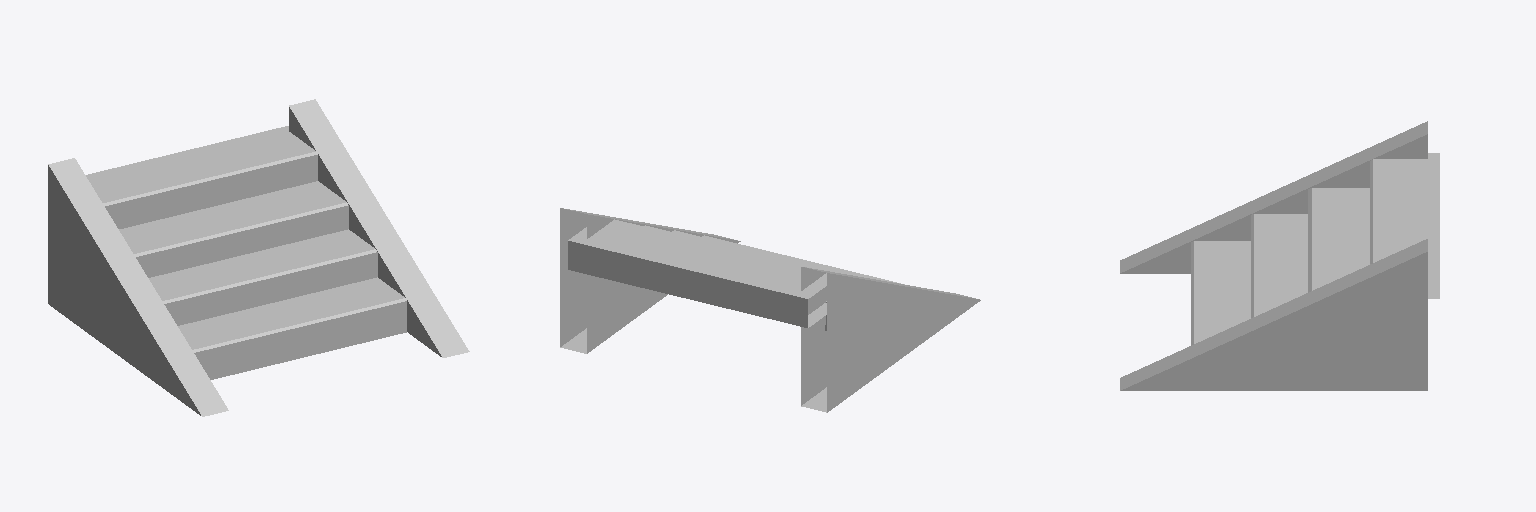
File: Stairs_Exterior_NoFirstStep.obj
3 views of the same model, side by side, from view 1: azimuth 30°, elevation 25°; view 2: azimuth 150°, elevation 25°; view 3: azimuth 270°, elevation 25° (orthographic).
Parts seen in each view (by area): view 1: Stairs_Exterior_NoFirstStep; view 2: Stairs_Exterior_NoFirstStep; view 3: Stairs_Exterior_NoFirstStep.
Part boxes in pixels (x1,y1,x2,y2): Stairs_Exterior_NoFirstStep: (48,99,469,416); Stairs_Exterior_NoFirstStep: (560,208,980,412); Stairs_Exterior_NoFirstStep: (1120,121,1439,390).
Bounding box in the file's own units: 2 × 1 × 2.08.